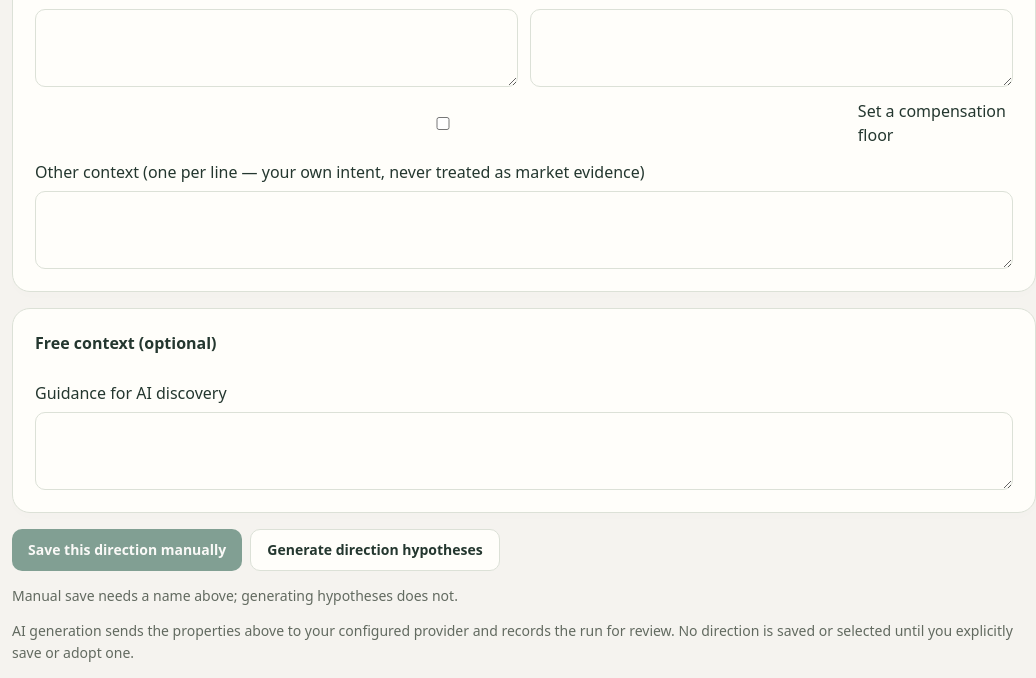
Test: Career Direction builder — AI discovery › shows the shared coverage service's representativeness-unknown note, never a model-generated label (docs/39 build §22)
(page scrolled)
Click the button "Generate direction hypotheses": (375, 550) 250,529 -> 500,571
(page scrolled)
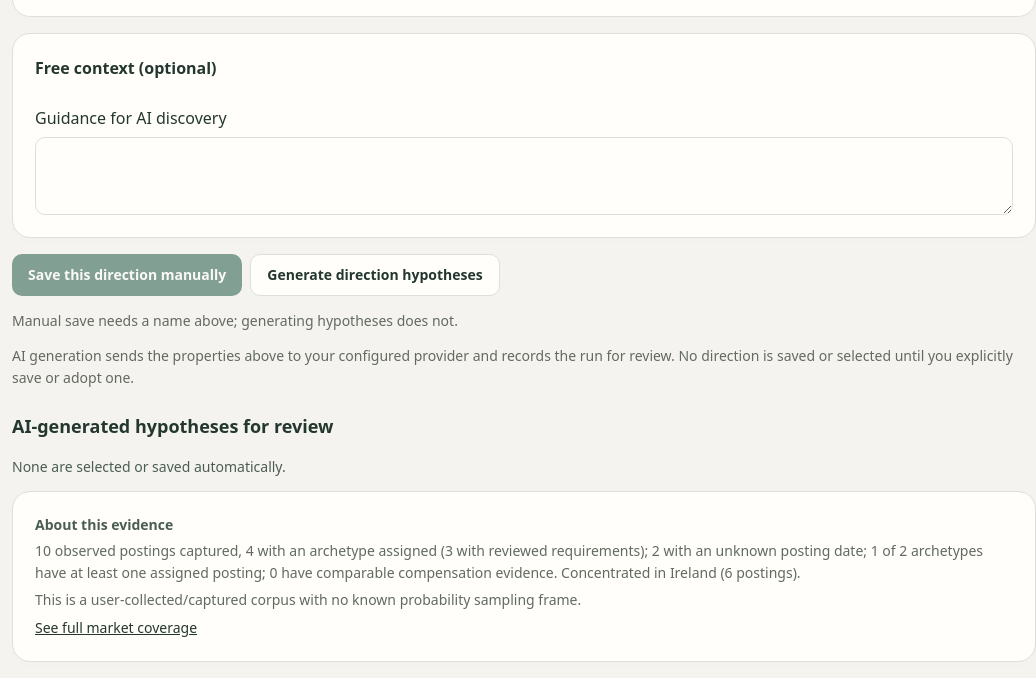
Now the text "no known probability sampling frame" is shown, box 35,590 -> 581,609
Now the text "Concentrated in Ireland" is shown, box 558,563 -> 801,582
